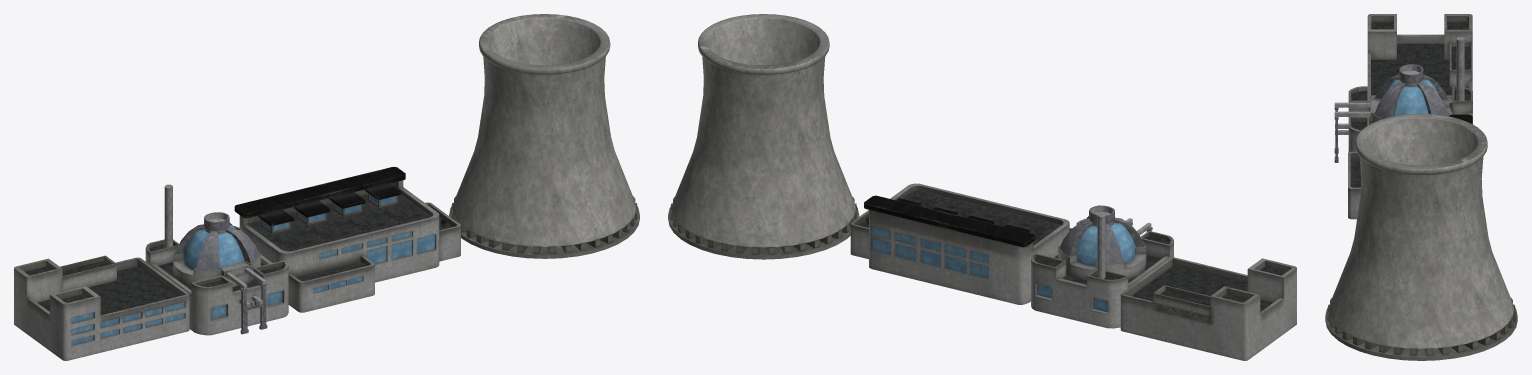
Rendered from nuclear.glb.
3 views of the same model, side by side, from view 1: azimuth 30°, elevation 25°; view 2: azimuth 150°, elevation 25°; view 3: azimuth 270°, elevation 25° (orthographic).
Visible parts, largest first — view 1: Truba, Zdanie_Cheh, Zdanie_office, Zdanie_Centr; view 2: Truba, Zdanie_Cheh, Zdanie_office, Zdanie_Centr; view 3: Truba, Zdanie_office, Zdanie_Centr, Zdanie_Cheh.
Part boxes in pixels (<box>): Truba: <box>449,14,639,258</box>; Zdanie_Cheh: <box>234,167,460,312</box>; Zdanie_office: <box>14,255,189,360</box>; Zdanie_Centr: <box>145,184,288,335</box>; Truba: <box>668,14,859,259</box>; Zdanie_Cheh: <box>850,183,1071,304</box>; Zdanie_office: <box>1120,257,1296,360</box>; Zdanie_Centr: <box>1031,205,1173,328</box>; Truba: <box>1325,114,1517,360</box>; Zdanie_office: <box>1367,14,1472,97</box>; Zdanie_Centr: <box>1334,37,1472,162</box>; Zdanie_Cheh: <box>1348,114,1472,219</box>.
Size of the model in its own units: 15.52 by 4.47 by 4.35.
4 materials, 4 textured.
